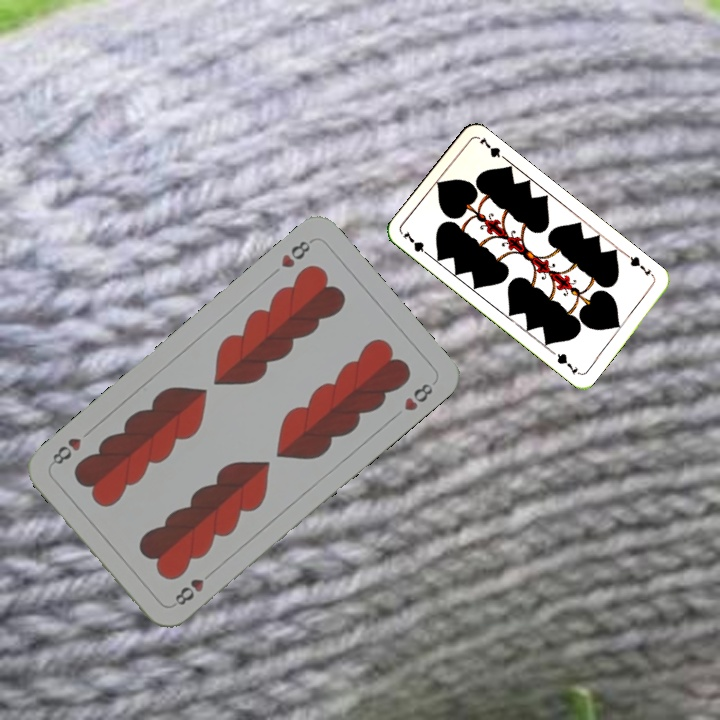G7: (399, 227, 433, 259), (623, 251, 657, 280)
H8: (168, 566, 217, 608), (277, 235, 316, 271)
